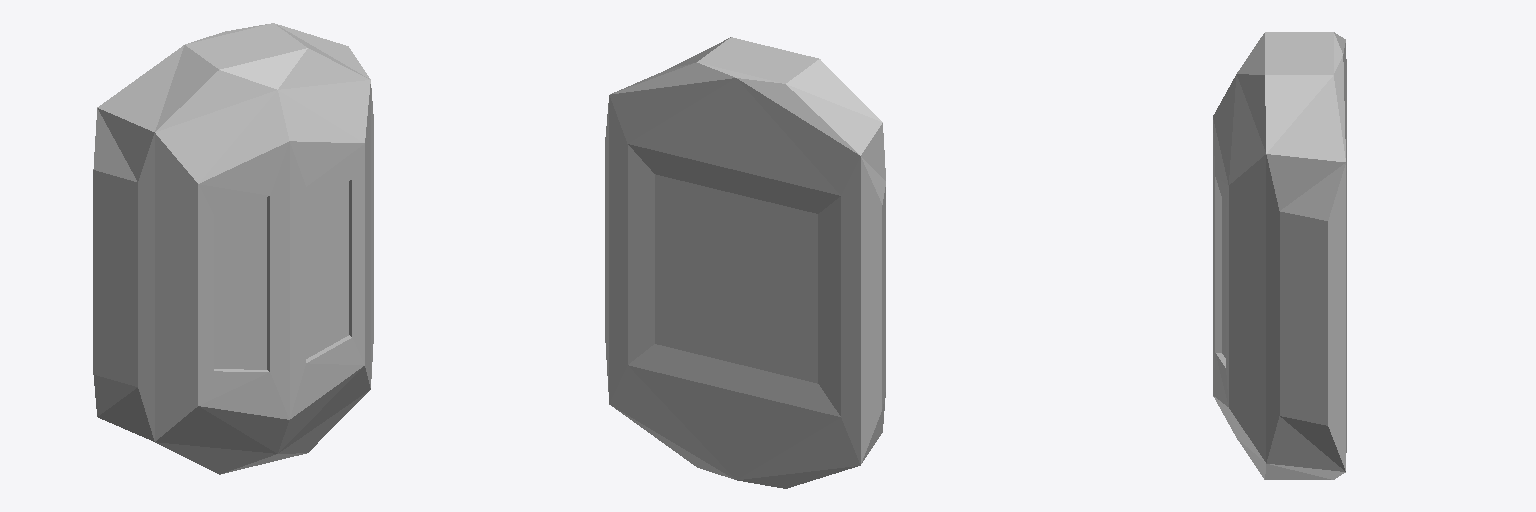
File: expansion_bay_extension.obj
The picture shows the model from 3 angles: view 1: azimuth 30°, elevation 25°; view 2: azimuth 150°, elevation 25°; view 3: azimuth 270°, elevation 25°; orthographic projection.
Parts seen in each view (by area): view 1: Cube; view 2: Cube; view 3: Cube.
Part boxes in pixels (bbox=[...]): Cube: bbox=[93, 23, 373, 474]; Cube: bbox=[605, 37, 885, 488]; Cube: bbox=[1213, 32, 1346, 479].
Bounding box in the file's own units: 1.87 × 2.62 × 0.7873.